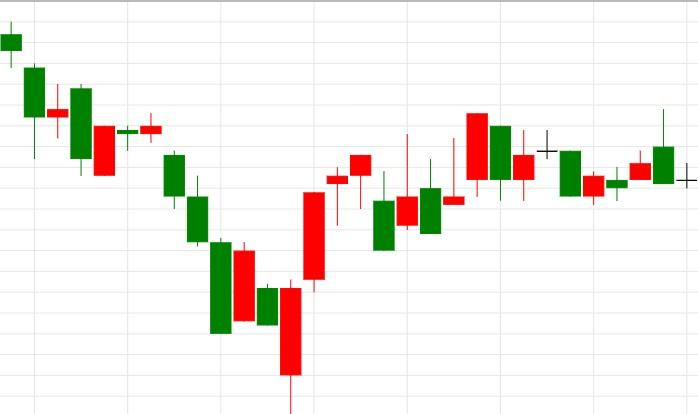bearish_engulfing_fall: (582, 109, 675, 205)
bullish_engulfing_rise: (0, 22, 303, 414)
evening_star_fall: (372, 112, 582, 252)
three_white_soldiers_rise: (0, 21, 348, 414)
